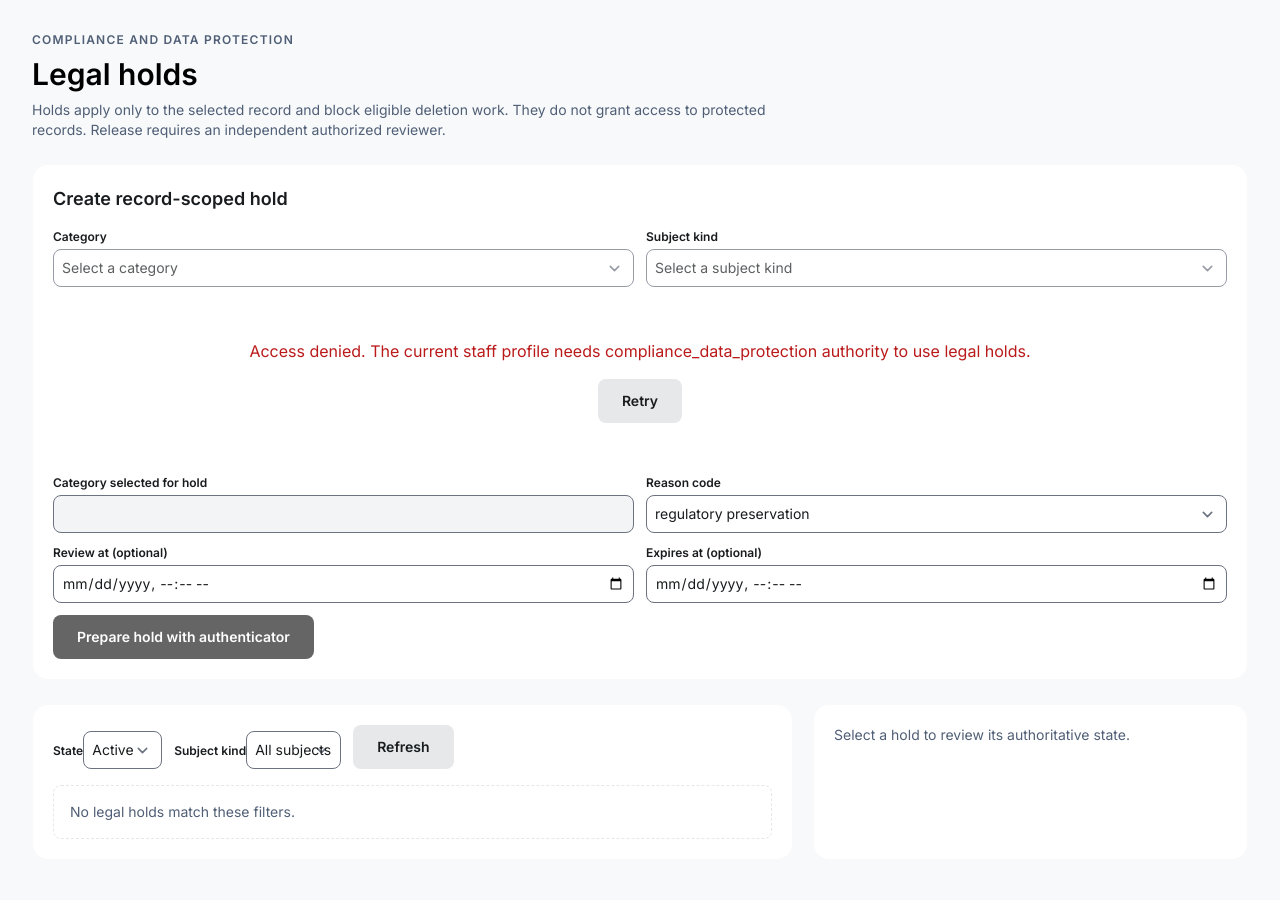
Scenario: admin legal-hold subject selector › shows access denied and session-expiry handling for lookup authorization failures
Expected: the text "Access denied. The current staff profile needs compliance_data_protection authority" is shown, 249,341 -> 1030,361
Click the button "Retry" at (640, 401), box 598,379 -> 682,423
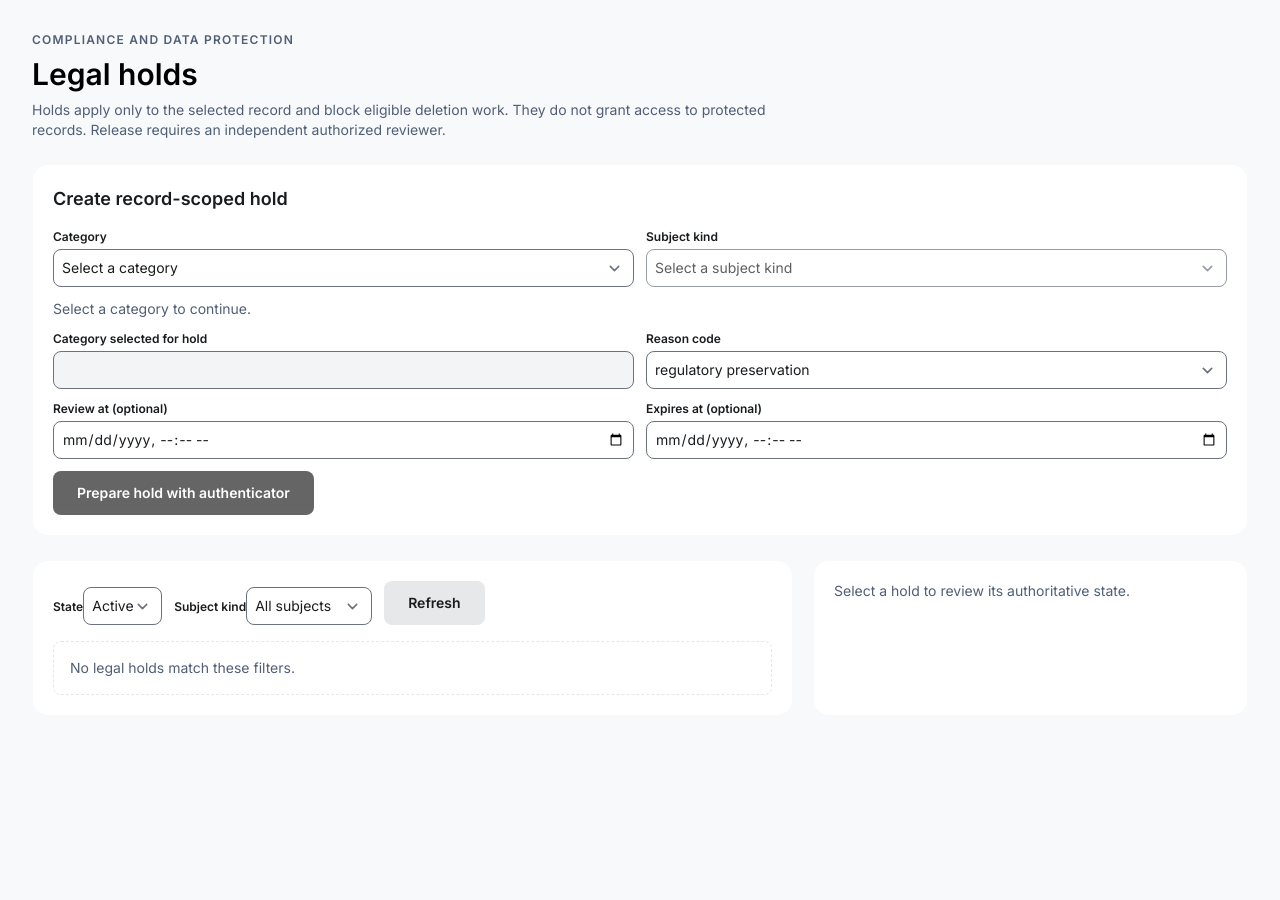
Select "Account and profile" in the dropdown labelled "Category" at (344, 268), box 53,249 -> 634,287
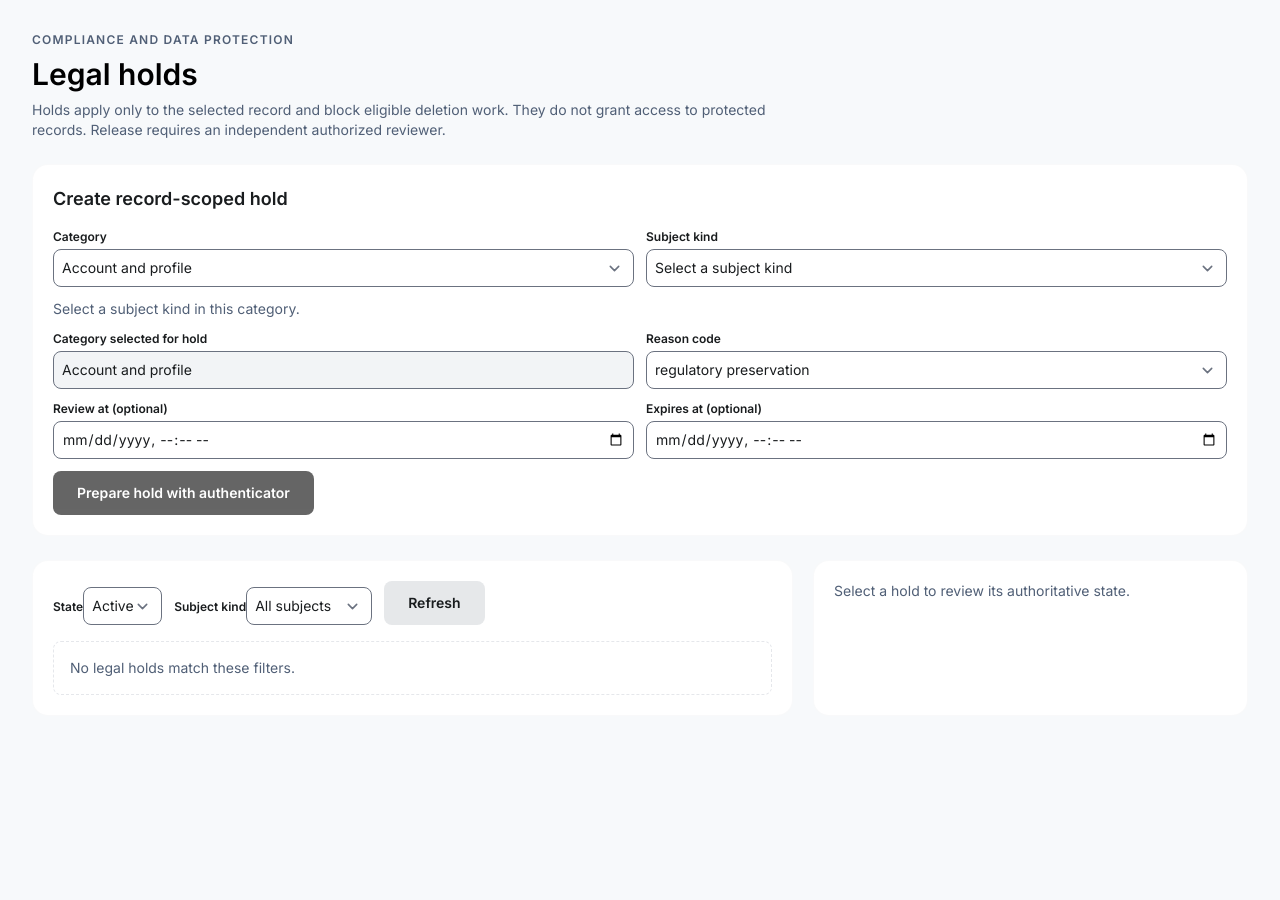
Select "Profile" in the 1st dropdown labelled "Subject kind" at (936, 268), box 646,249 -> 1227,287
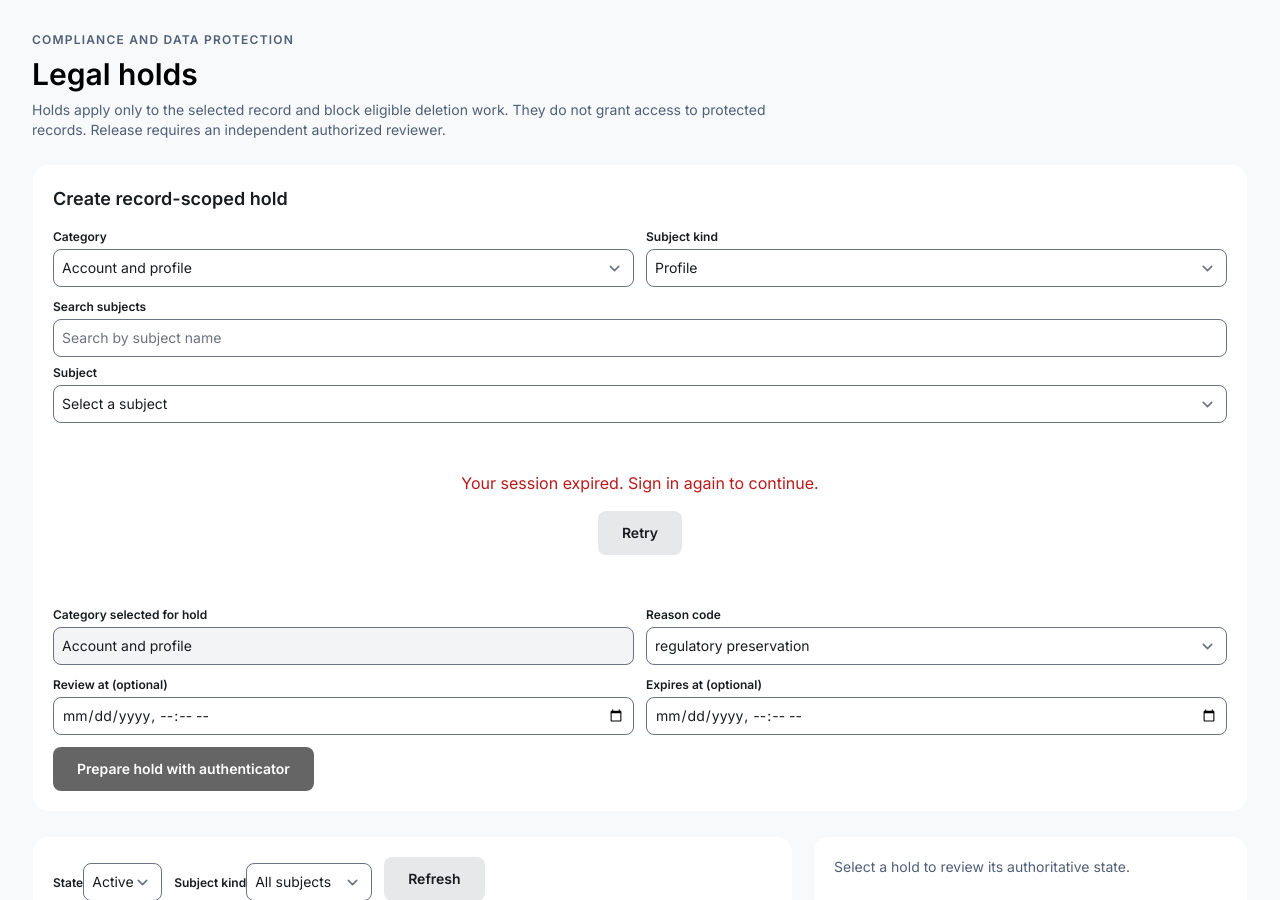
Now the text "Your session expired. Sign in again to continue." is shown, box 461,473 -> 819,493
